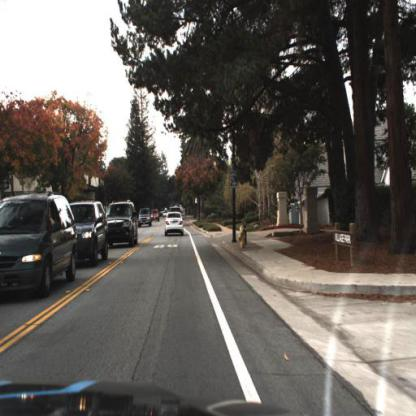car: (1, 190, 83, 298), (68, 200, 110, 269), (105, 199, 139, 251), (164, 208, 187, 239), (137, 206, 153, 230), (149, 209, 160, 223)
